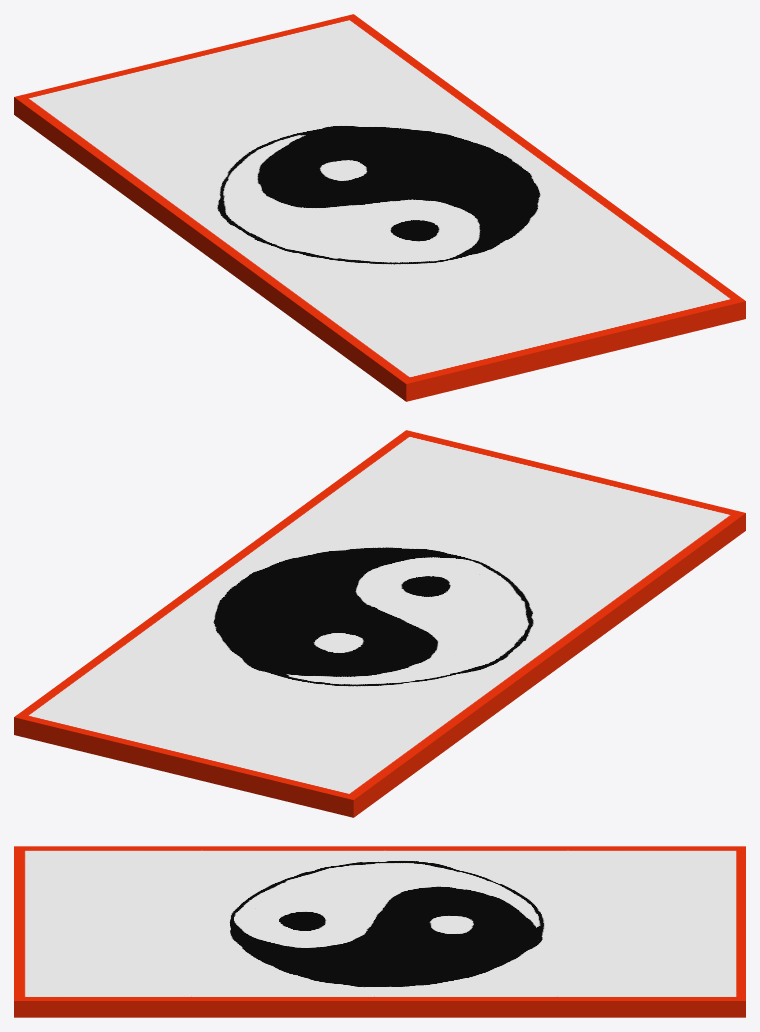
The model's file is fuda1.fbx.
The picture shows the model from 3 angles, top to bottom: view 1: azimuth 30°, elevation 25°; view 2: azimuth 150°, elevation 25°; view 3: azimuth 270°, elevation 25°; orthographic projection. The views are drawn at different scales.
Parts seen in each view (by area): view 1: pCube1; view 2: pCube1; view 3: pCube1.
Boxes of the visible parts, <box> form: pCube1: <box>14,14,745,401</box>; pCube1: <box>14,430,745,817</box>; pCube1: <box>14,846,745,1017</box>.
Bounding box in the file's own units: 20 × 1 × 40.
1 material, 1 textured.
